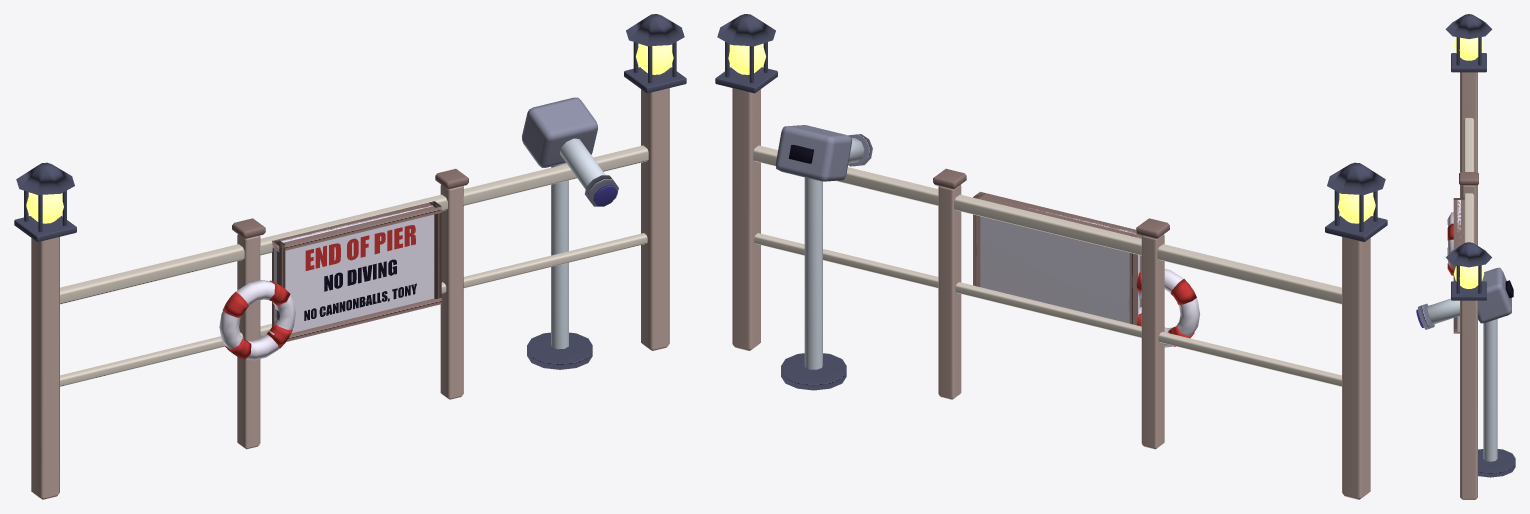
The model's file is pier_end.glb.
The picture shows the model from 3 angles, left to right: view 1: azimuth 30°, elevation 25°; view 2: azimuth 150°, elevation 25°; view 3: azimuth 270°, elevation 25°; orthographic projection. The views are drawn at different scales.
Parts seen in each view (by area): view 1: Rail; view 2: Rail; view 3: Rail.
Part boxes in pixels (box(x1,y1,x2,y2)): Rail: box(14, 14, 686, 499); Rail: box(715, 14, 1387, 499); Rail: box(1416, 14, 1515, 499).
Size of the model in its own units: 3.26 by 1.55 by 0.5535.
